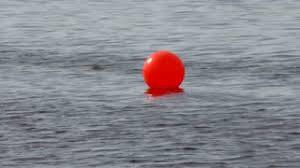buoy: (143, 51, 186, 93)
